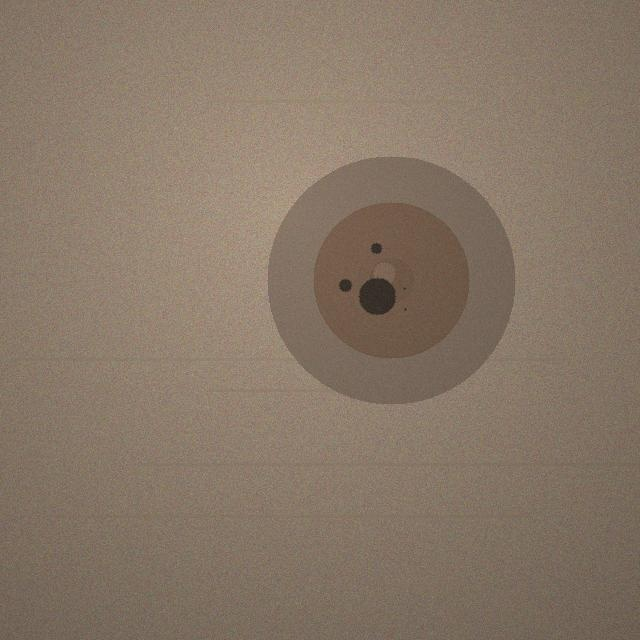shrinkage: (267, 156, 515, 404)
